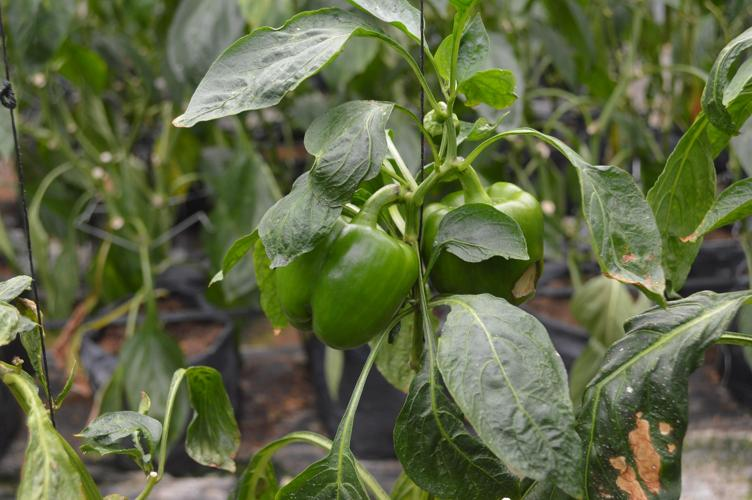BellPepper: (247, 201, 420, 375), (430, 184, 554, 302)
